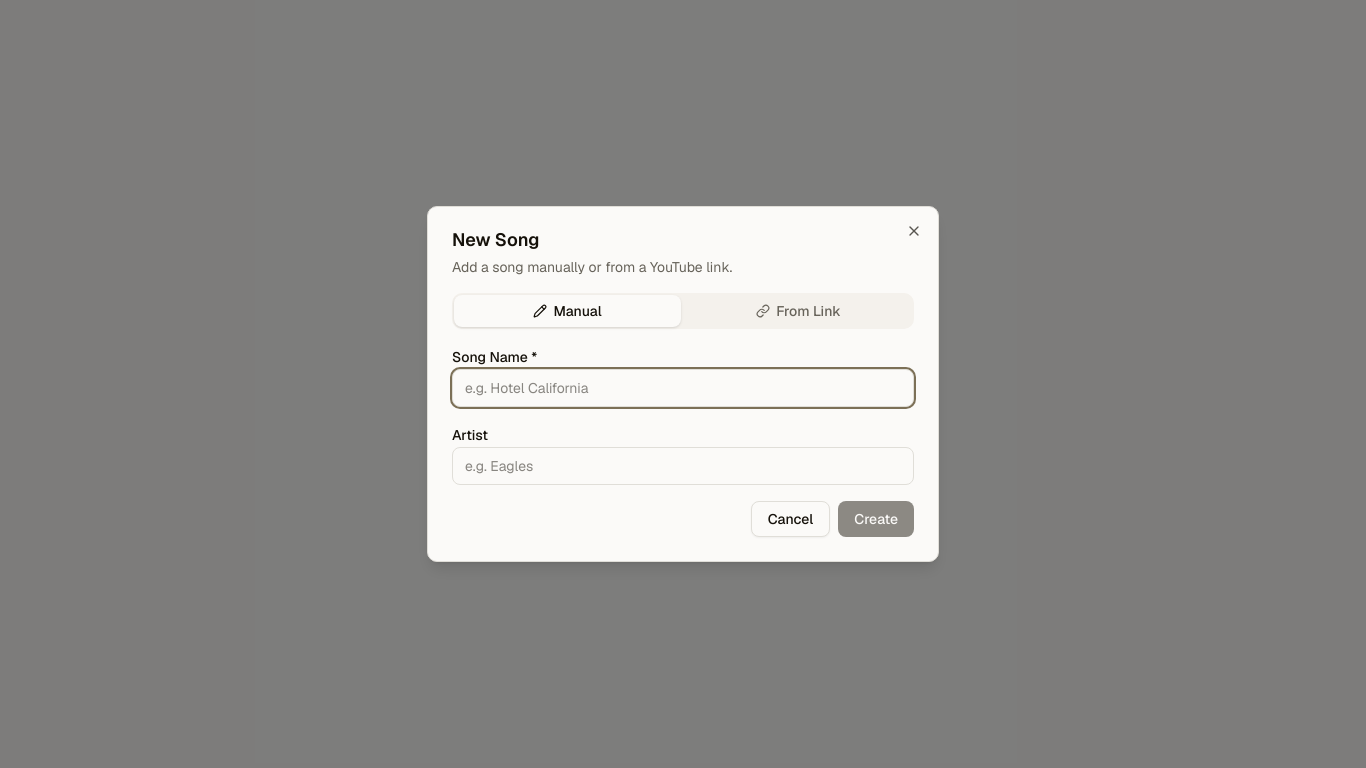
it: AddSongDialog › Create button is enabled when name is filled
The image size is (1366, 768).
Type "My Song" into the field labelled "Song Name *". click: {"x": 683, "y": 388}
box: 452,369 -> 914,407
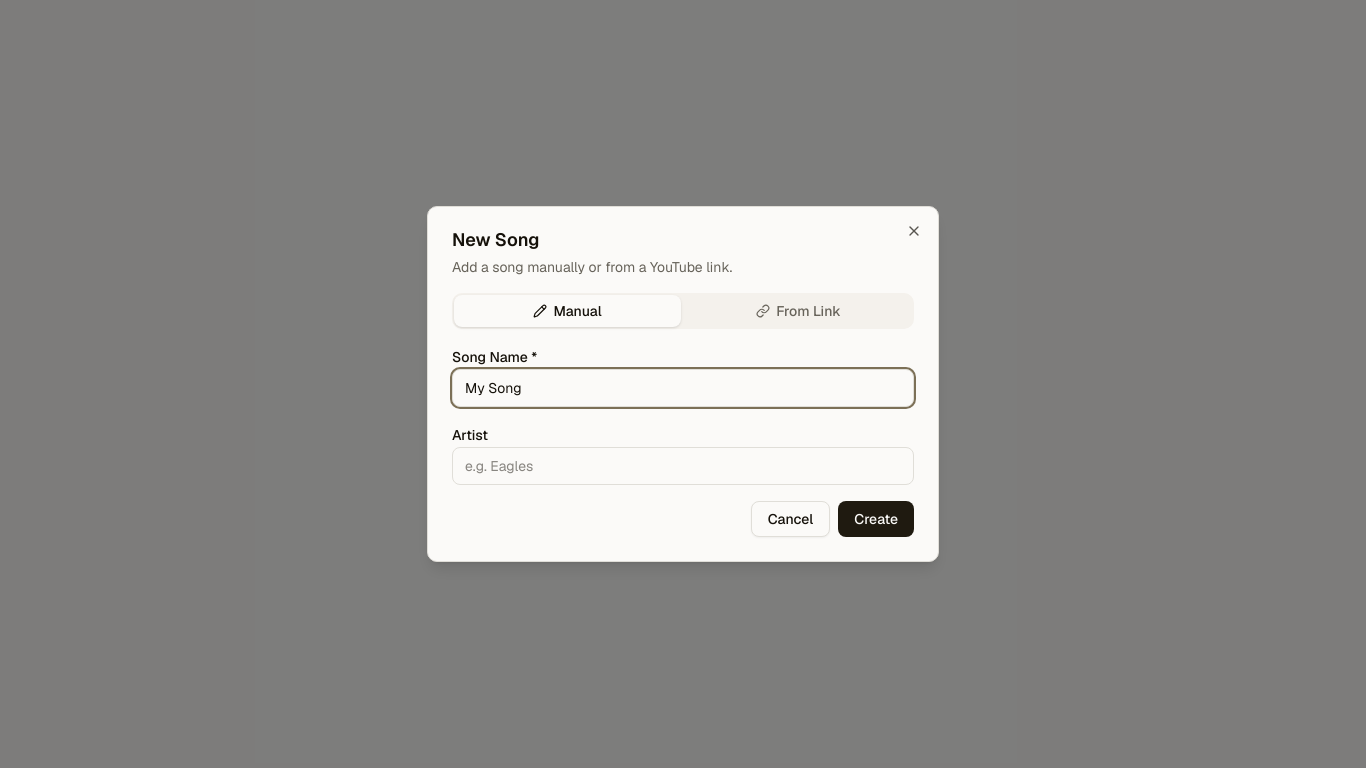
Check: the button "Create" is enabled, box 838,501 -> 914,537
